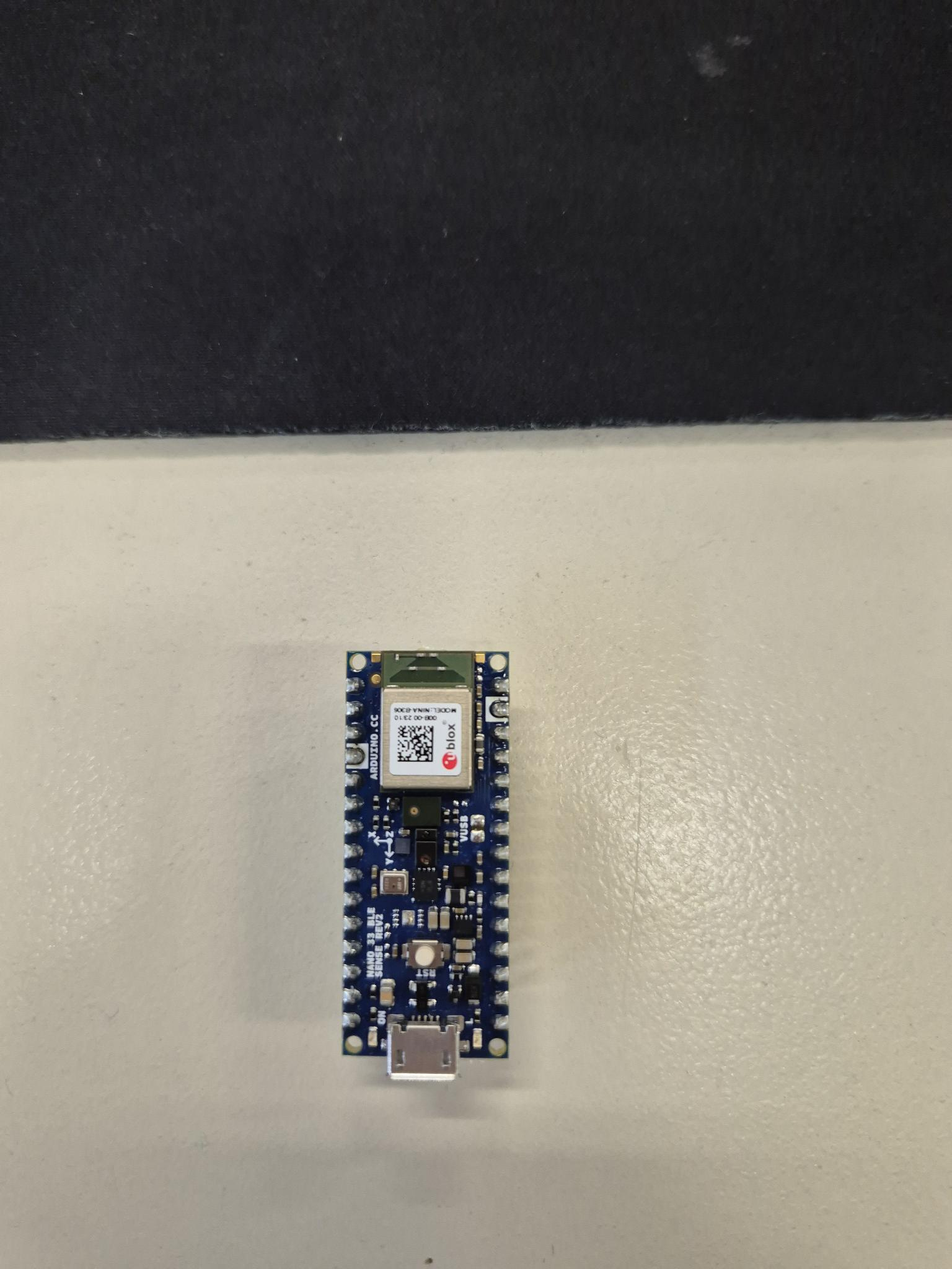arduino-nano-ble-sense: (343, 651, 509, 1080)
